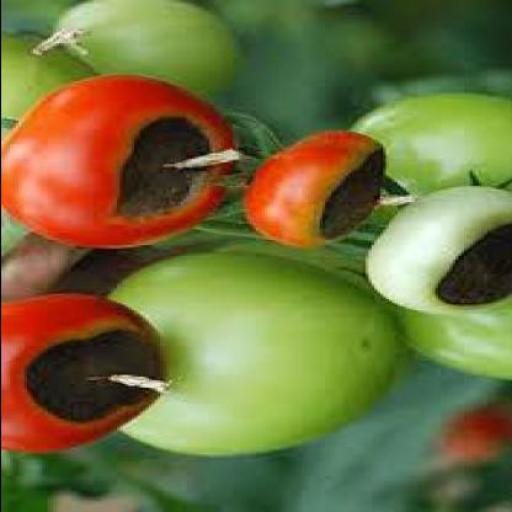biodegradable: (101, 249, 396, 454), (2, 72, 232, 246), (203, 110, 414, 246), (1, 290, 169, 452), (339, 88, 509, 226), (359, 183, 509, 314), (49, 0, 234, 97), (367, 274, 509, 377), (1, 30, 81, 136), (434, 407, 503, 463), (1, 203, 26, 251)
